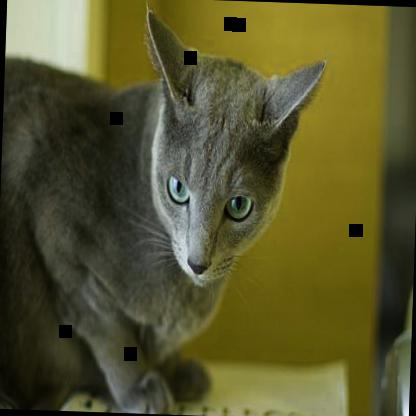cat: (0, 4, 332, 415)
